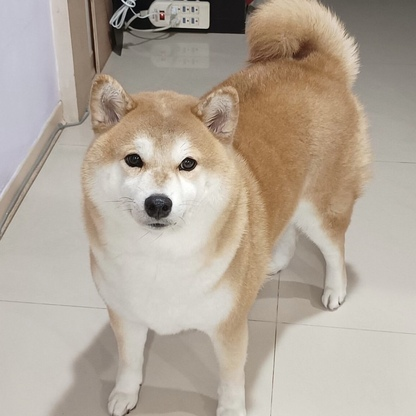shiba: (69, 2, 376, 416)
